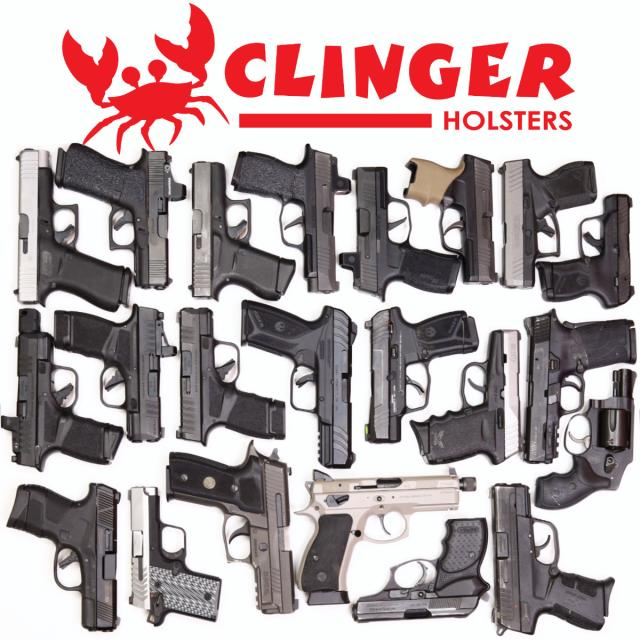HandGun: (163, 437, 307, 627), (289, 468, 469, 611), (5, 136, 142, 309), (229, 297, 361, 476), (6, 304, 129, 480), (47, 133, 179, 297), (487, 477, 618, 638), (517, 304, 640, 470), (0, 476, 123, 638), (358, 300, 491, 449), (228, 135, 345, 301), (400, 322, 523, 476), (346, 153, 467, 307), (46, 296, 169, 445), (183, 154, 302, 306), (172, 302, 289, 454), (347, 512, 493, 627), (531, 365, 640, 517), (125, 477, 226, 636), (498, 149, 604, 300), (396, 148, 500, 295), (532, 189, 637, 316)
